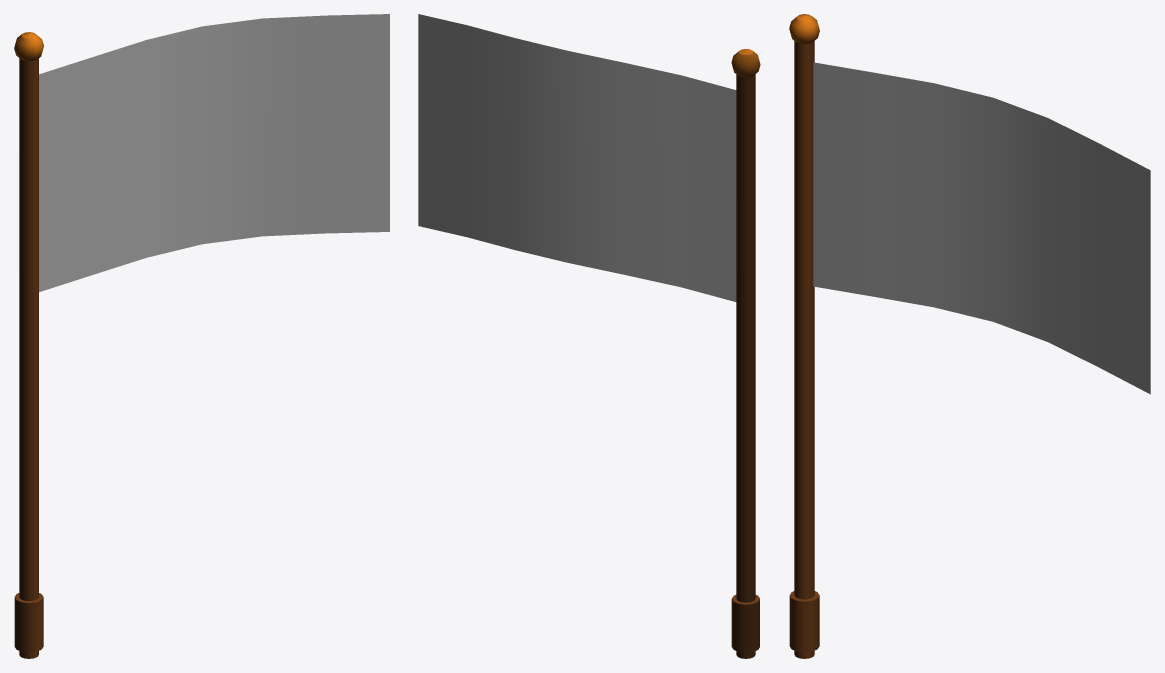
File: moon_flag.fbx
3 renders of one model, left to right at view 1: azimuth 30°, elevation 25°; view 2: azimuth 150°, elevation 25°; view 3: azimuth 330°, elevation 25°, orthographic. The views are drawn at different scales.
Parts seen in each view (by area): view 1: Union printed flag, MoonFlag Parts; view 2: Union printed flag, MoonFlag Parts; view 3: Union printed flag, MoonFlag Parts.
Part boxes in pixels (x1=…): Union printed flag: x1=39, y1=14, x2=389, y2=292; MoonFlag Parts: x1=14, y1=32, x2=43, y2=658; Union printed flag: x1=418, y1=14, x2=736, y2=301; MoonFlag Parts: x1=731, y1=49, x2=760, y2=658; Union printed flag: x1=813, y1=62, x2=1150, y2=394; MoonFlag Parts: x1=789, y1=14, x2=819, y2=658.
Bounding box in the file's own units: 0.1145 × 0.1882 × 0.0109.
